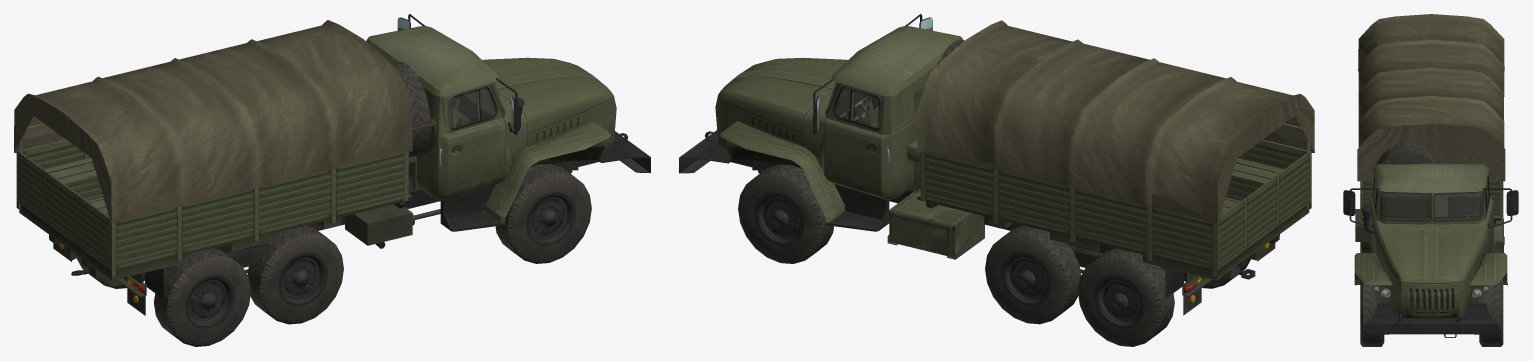
The model's file is truck_ural_4320.glb.
3 renders of one model, left to right at view 1: azimuth 30°, elevation 25°; view 2: azimuth 150°, elevation 25°; view 3: azimuth 270°, elevation 25°, orthographic. The views are drawn at different scales.
Parts seen in each view (by area): view 1: canvas, rear, hull.001, suspension.001, tire3, tire5, tire, hatch.001, wheel.001, wheel3, wheel5, spare (+2 smaller); view 2: canvas, rear, hull.001, suspension.001, tire4, tire6, tire2, hatch2.001, wheel2, wheel4, wheel6, glass2 (+1 smaller); view 3: canvas, hull.001, inside, windscreen, spare, tire2, tire, rear, suspension.001, hatch2.001, hatch.001, hull lens.
Boxes of the visible parts, x1,y1,x2,y2 form: canvas: [14, 20, 412, 224]; rear: [16, 118, 438, 280]; hull.001: [366, 14, 650, 224]; suspension.001: [49, 159, 599, 315]; tire3: [247, 225, 343, 324]; tire5: [154, 248, 250, 346]; tire: [495, 164, 591, 263]; hatch.001: [444, 83, 505, 192]; wheel.001: [528, 195, 572, 242]; wheel3: [280, 256, 324, 303]; wheel5: [187, 278, 231, 325]; spare: [392, 61, 430, 157]; canvas: [917, 20, 1314, 223]; rear: [907, 123, 1311, 280]; hull.001: [679, 14, 963, 222]; suspension.001: [731, 159, 1279, 315]; tire4: [985, 225, 1081, 324]; tire6: [1078, 248, 1174, 346]; tire2: [738, 164, 833, 263]; hatch2.001: [824, 83, 885, 192]; wheel2: [757, 196, 801, 242]; wheel4: [1004, 256, 1048, 303]; wheel6: [1097, 279, 1140, 325]; glass2: [835, 87, 879, 128]; canvas: [1357, 14, 1505, 181]; hull.001: [1343, 163, 1518, 337]; inside: [1368, 177, 1488, 242]; windscreen: [1379, 191, 1482, 219]; spare: [1376, 142, 1439, 165]; tire2: [1479, 278, 1503, 346]; tire: [1360, 279, 1384, 346]; rear: [1360, 172, 1502, 220]; suspension.001: [1355, 209, 1507, 317]; hatch2.001: [1484, 174, 1493, 252]; hatch.001: [1369, 175, 1377, 252]; hull lens: [1374, 286, 1488, 298].
Size of the model in its own units: 7.6 by 3 by 2.83.
Materials: 6 (6 with a texture image).
